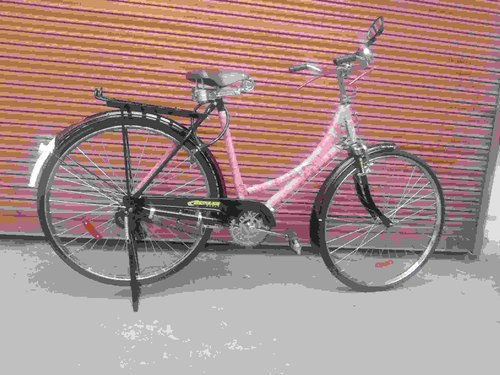cycle: (28, 29, 458, 320)
